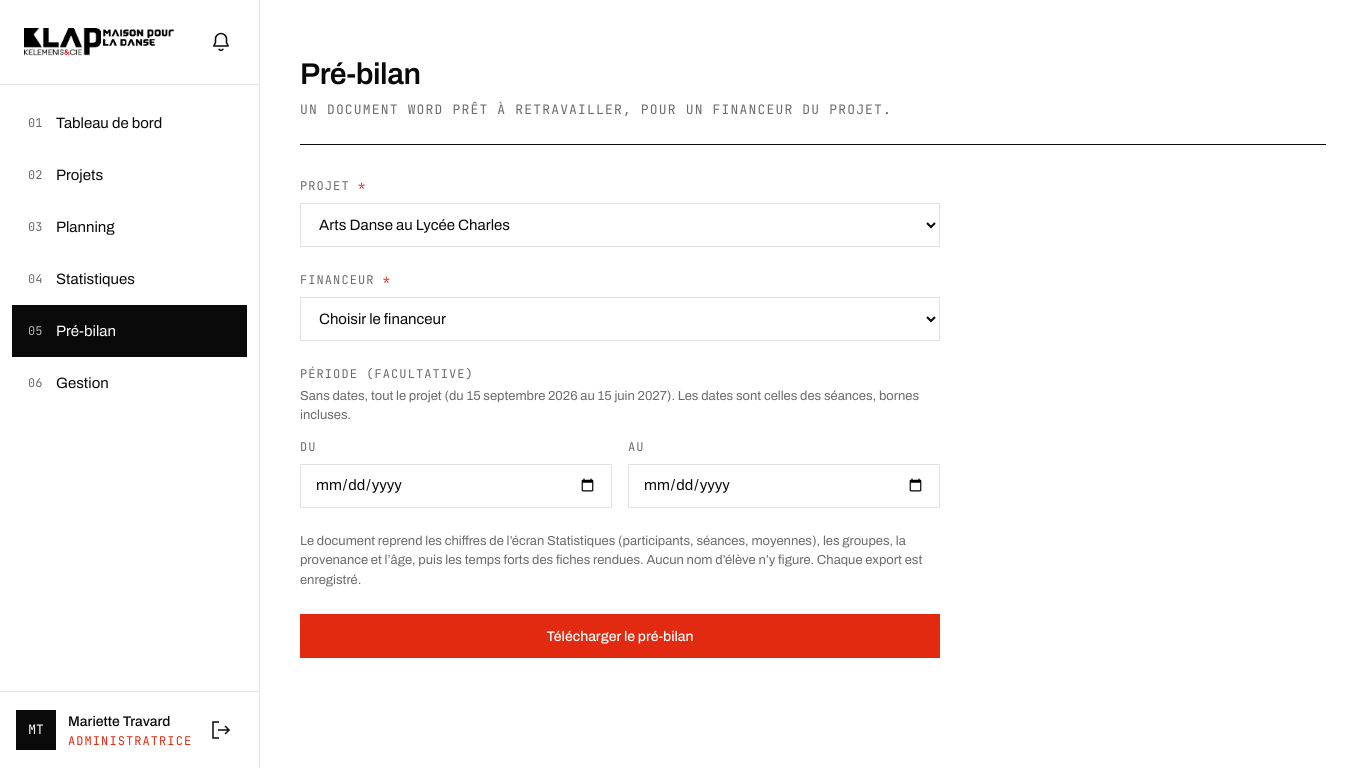
Test: Pré-bilan › vérifie le formulaire avant l’envoi
Expected: the dropdown labelled "Financeur *" is shown, [300,296,940,340]
Click the button "Télécharger le pré-bilan" at (620, 636), box [300,614,940,658]
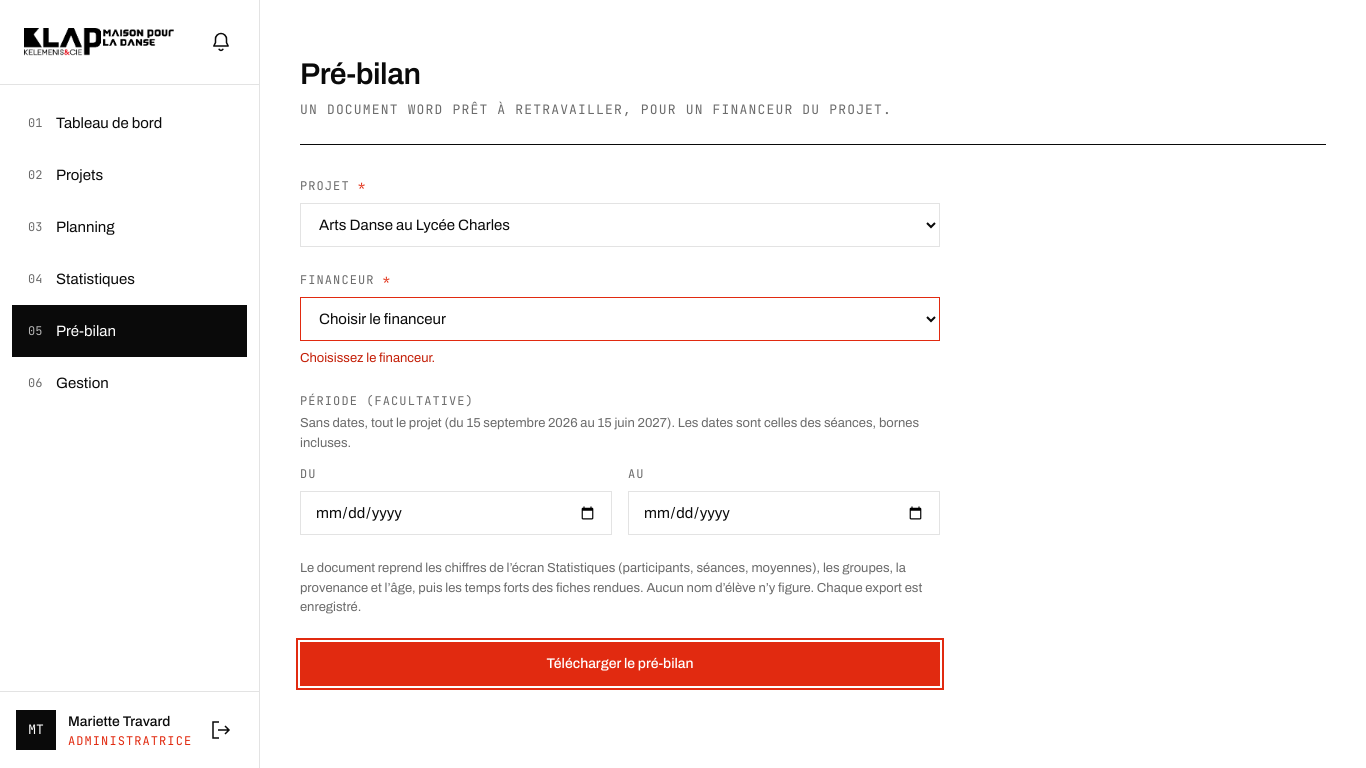
Expected: the text "Choisissez le financeur." is shown, [300,350,435,364]
Select "Ville de Marseille" in the dropdown labelled "Financeur *" at (620, 318), box [300,296,940,340]
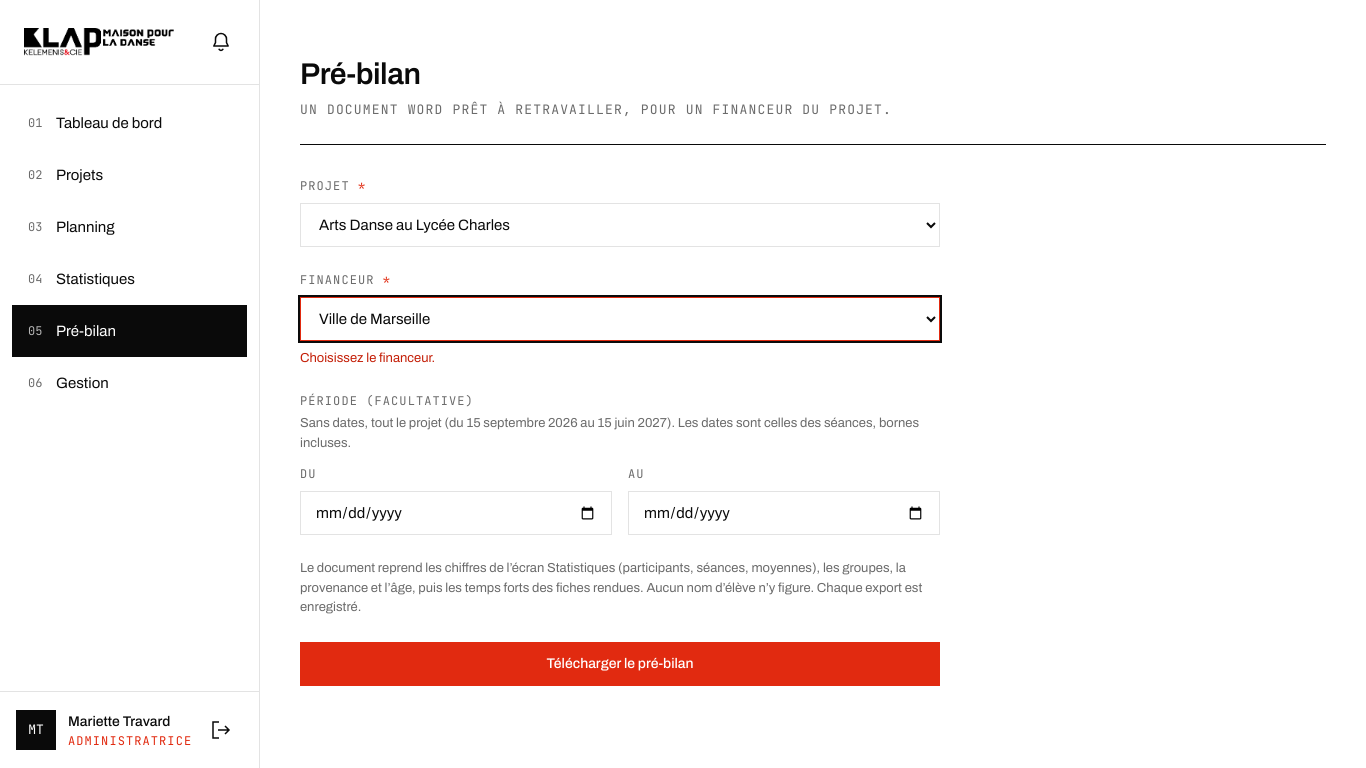
Type "2026-12-01" into the date field labelled "Du" at (456, 513), box [300,491,612,535]
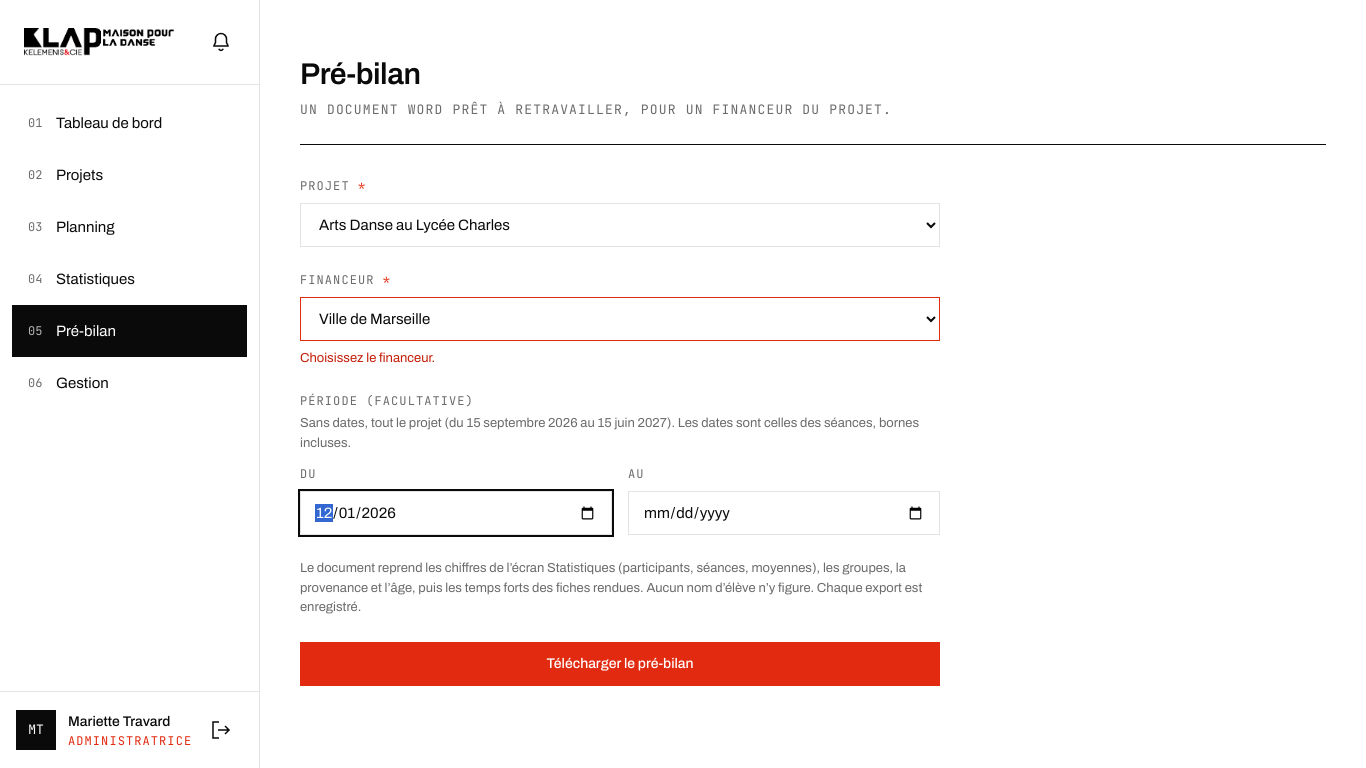
Type "2026-11-01" into the date field labelled "Au" at (784, 513), box [628,491,940,535]
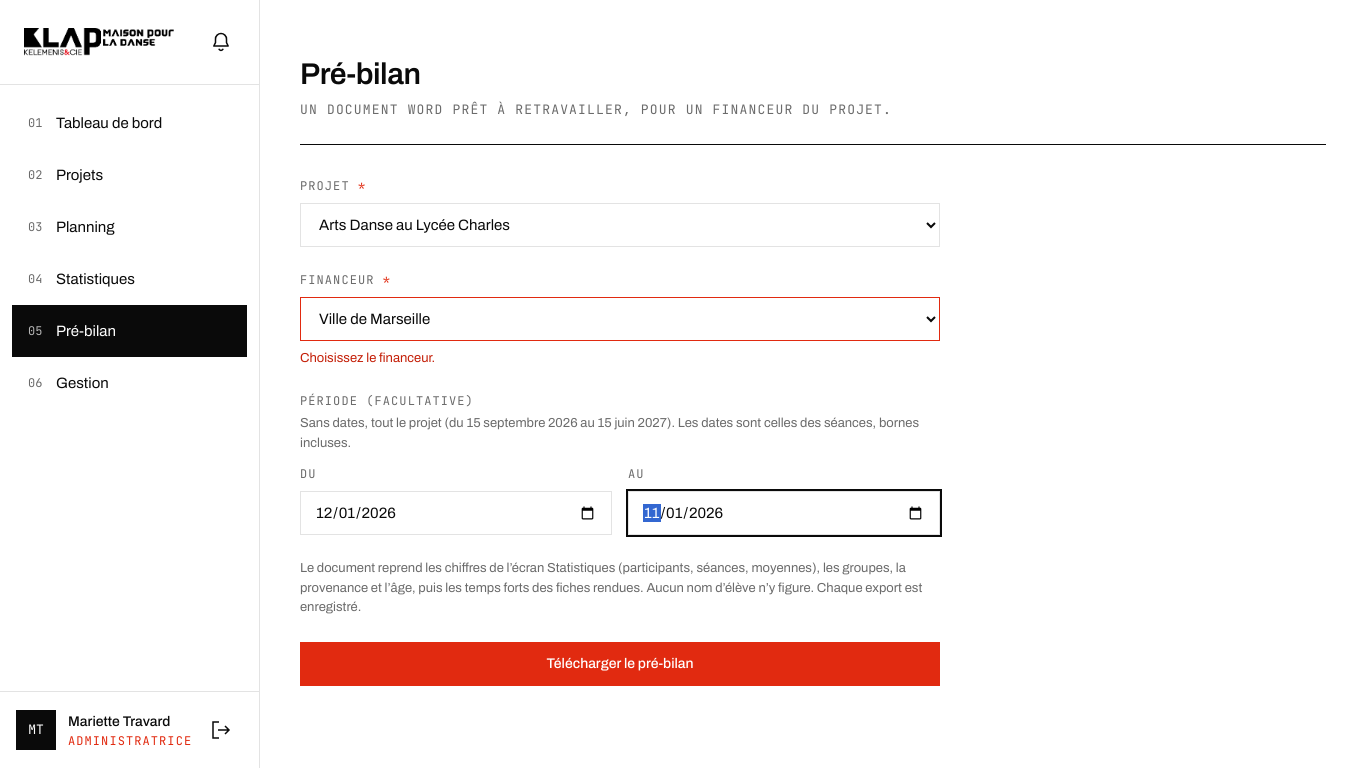
Click the button "Télécharger le pré-bilan" at (620, 664), box [300,642,940,686]
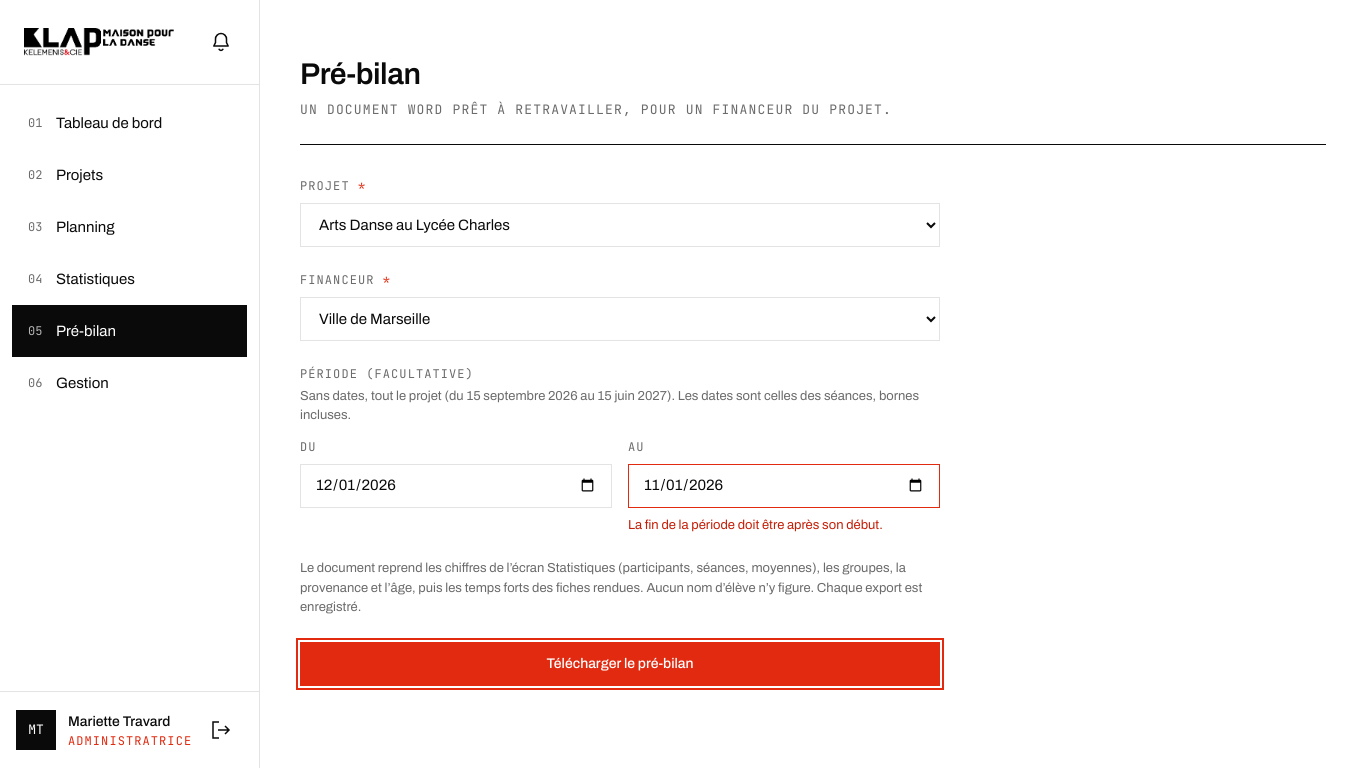
Expected: the text "La fin de la période doit être après son début." is shown, [628,518,883,532]
